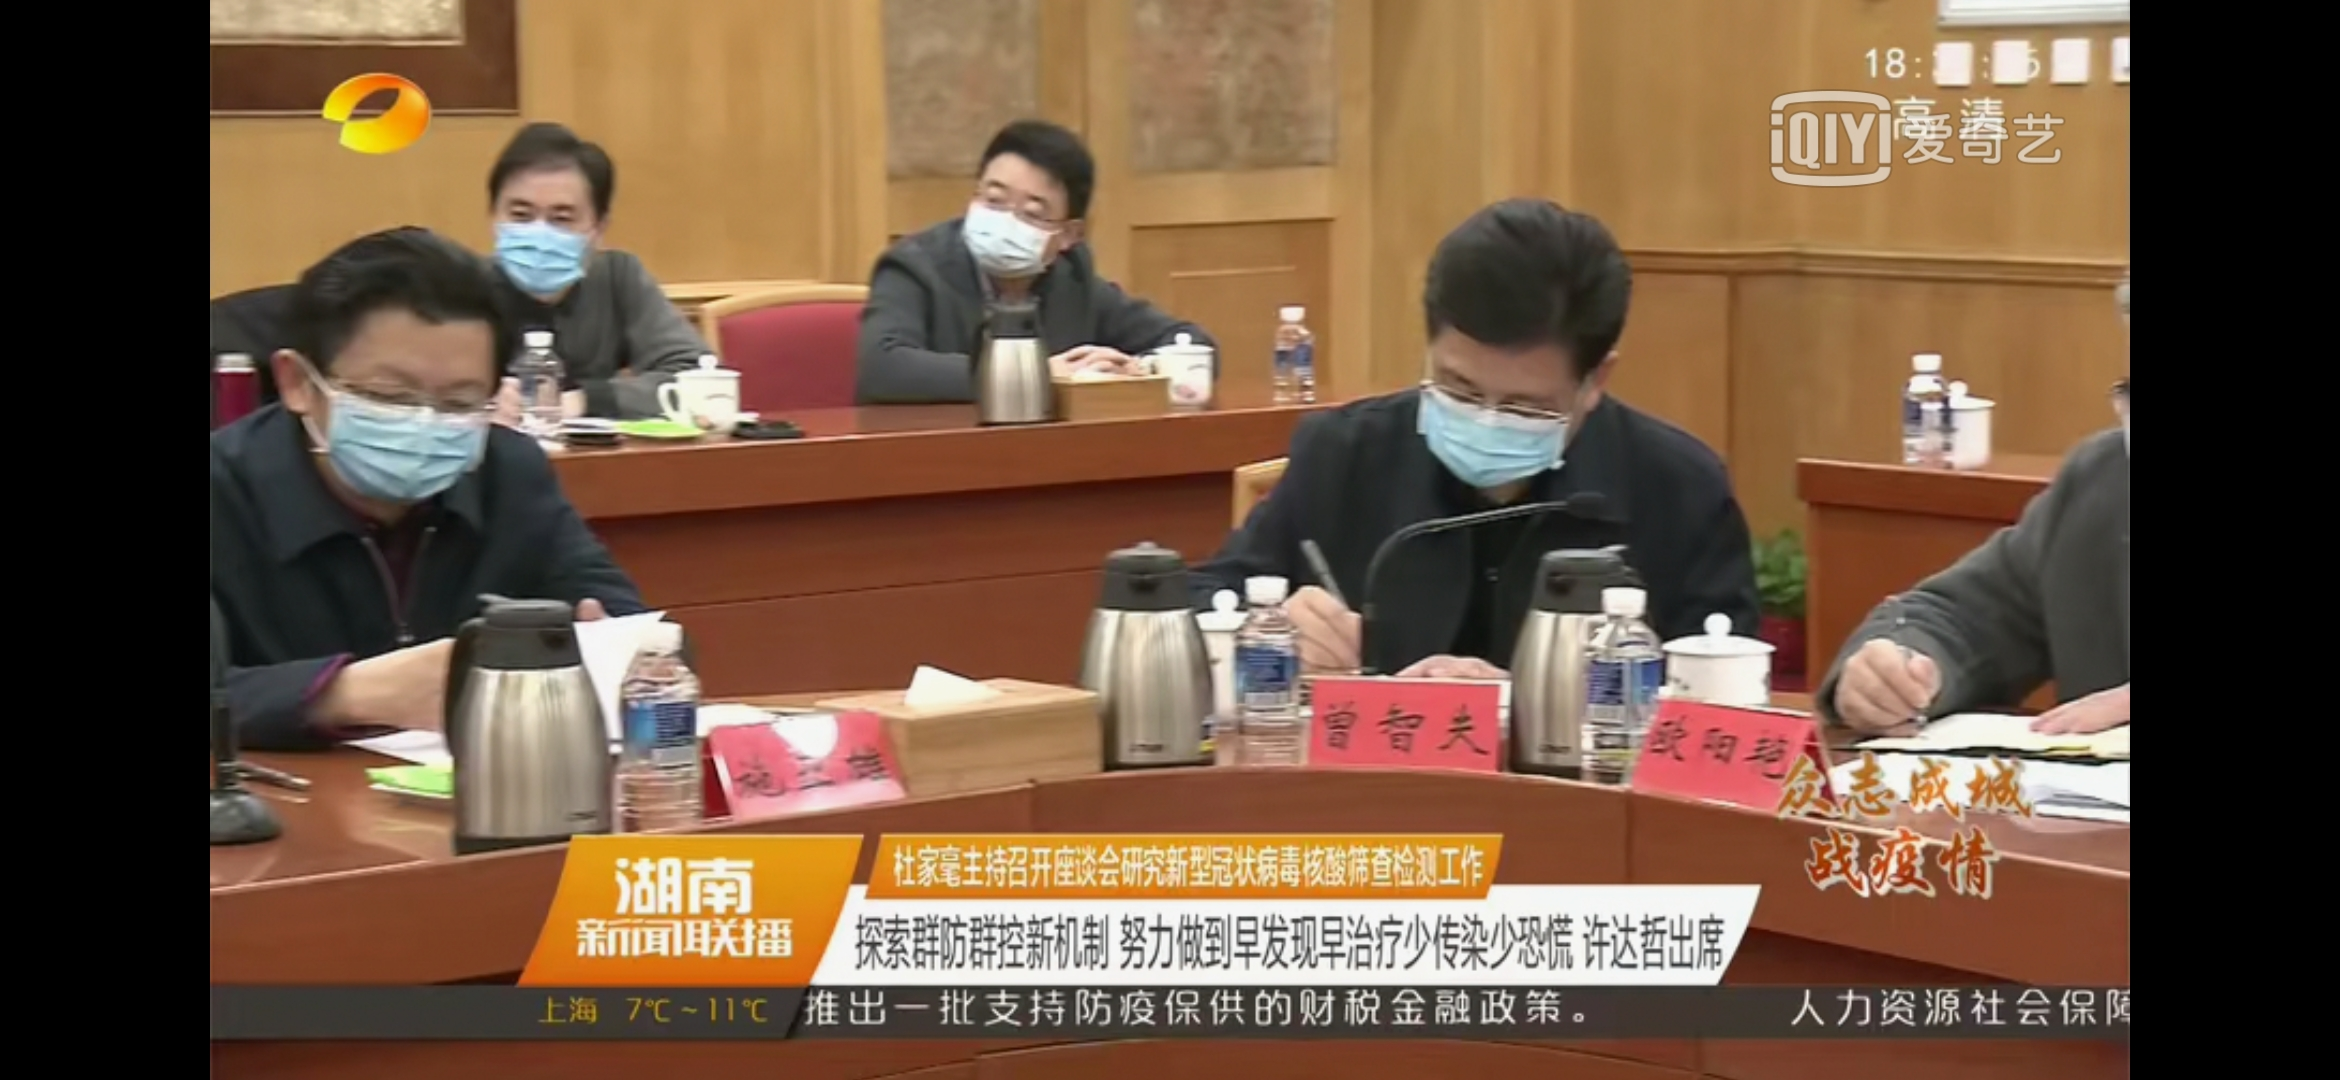correctlyWear: (284, 210, 524, 518), (1407, 304, 1610, 492), (470, 113, 625, 310), (952, 110, 1103, 283)
